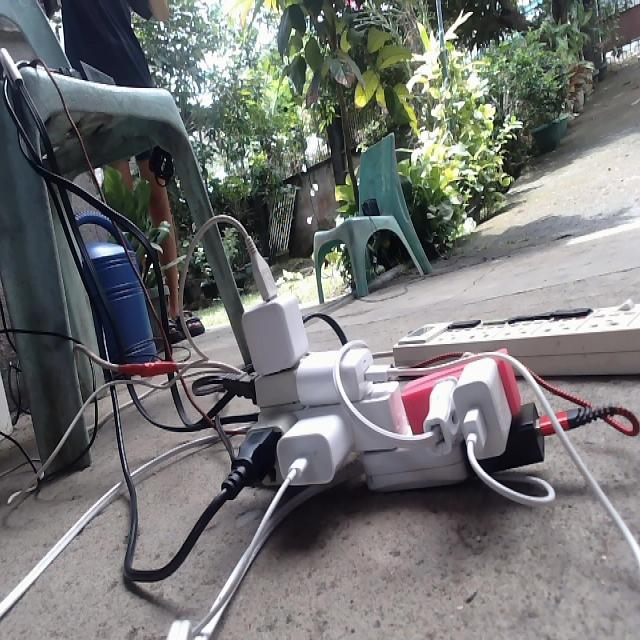-: (220, 243, 588, 501)
